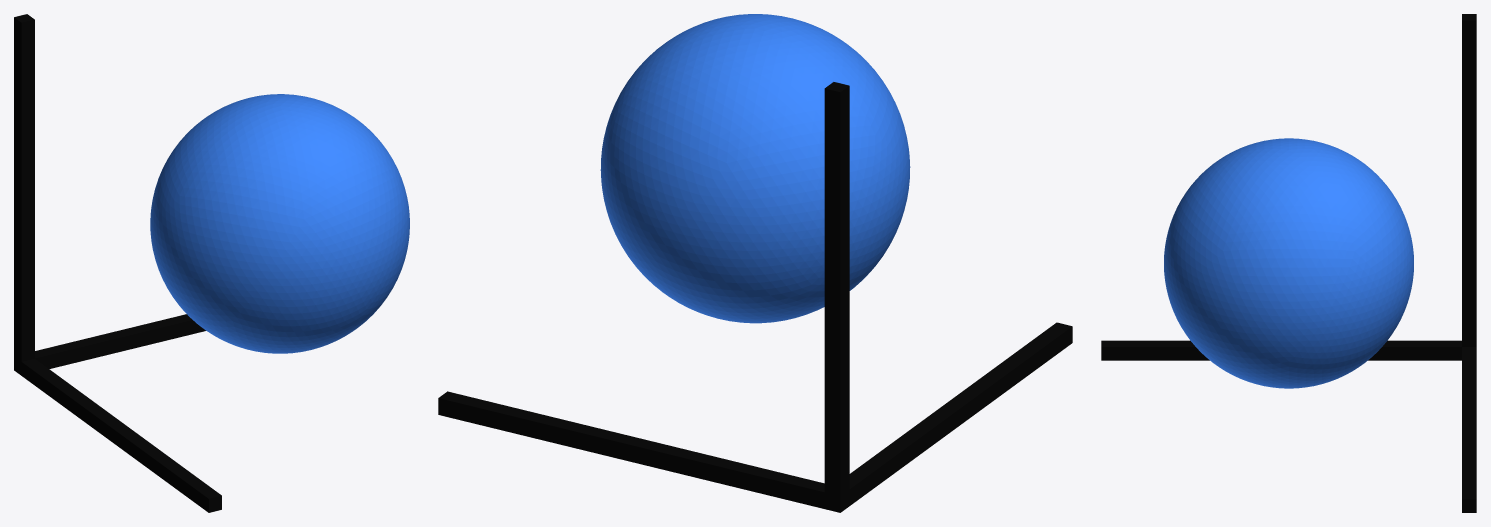
File: esfera.fbx
3 renders of one model, left to right at view 1: azimuth 30°, elevation 25°; view 2: azimuth 150°, elevation 25°; view 3: azimuth 270°, elevation 25°, orthographic. The views are drawn at different scales.
Visible parts, largest first — view 1: Mesh_1.006, Mesh_0.009; view 2: Mesh_1.006, Mesh_0.009; view 3: Mesh_1.006, Mesh_0.009.
Part boxes in pixels (<box>): Mesh_1.006: <box>150,94,409,353</box>; Mesh_0.009: <box>14,14,221,512</box>; Mesh_1.006: <box>600,14,910,323</box>; Mesh_0.009: <box>438,82,1072,512</box>; Mesh_1.006: <box>1164,138,1413,388</box>; Mesh_0.009: <box>1101,14,1476,512</box>.
Size of the model in its own units: 6 by 6 by 6.
